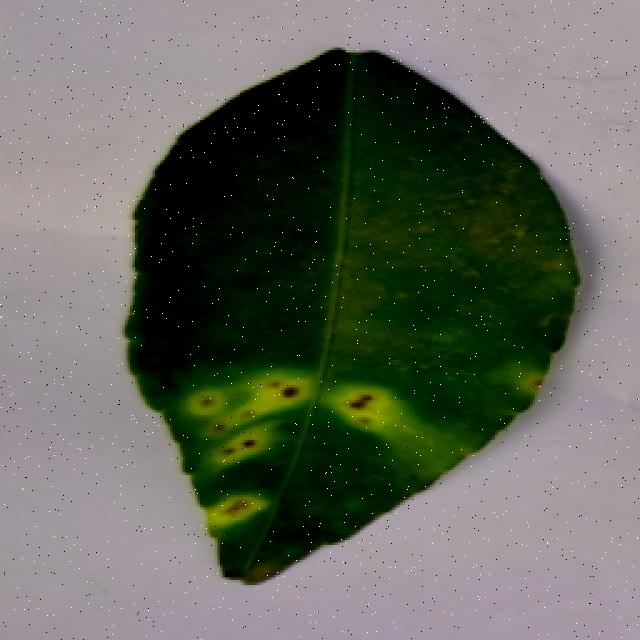canker: (133, 46, 547, 572)
